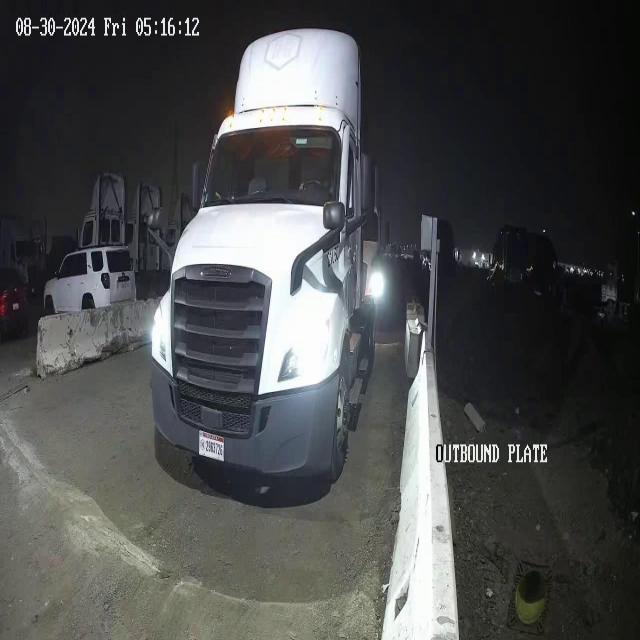TRUCK_OUT: (150, 26, 381, 500)
